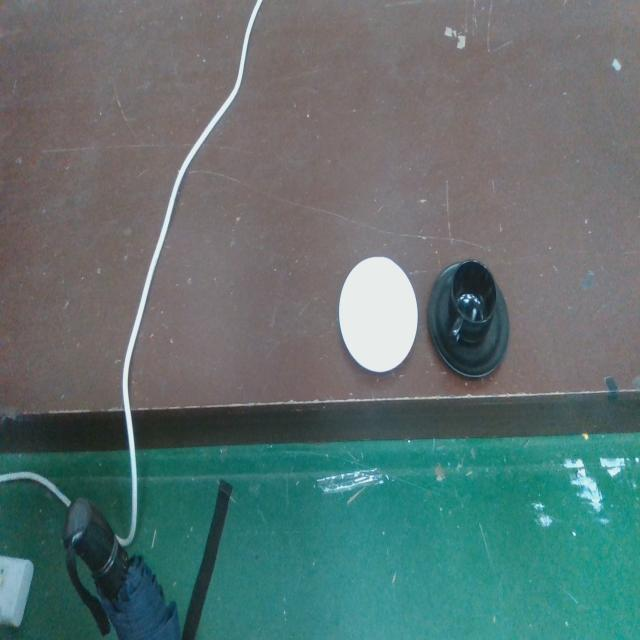black: (426, 257, 510, 382)
white: (337, 253, 420, 377)
